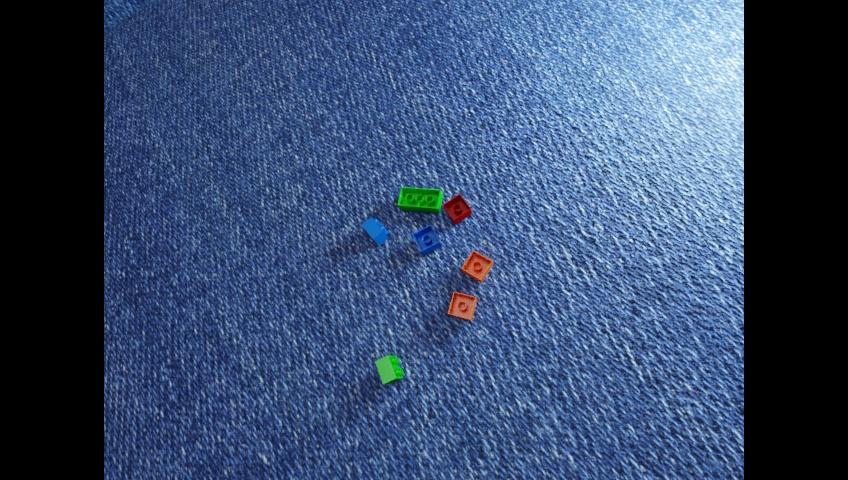2x2_blue: (412, 224, 440, 255), (361, 216, 388, 245)
2x2_green: (375, 355, 402, 384)
2x2_orange: (461, 250, 491, 282), (448, 291, 476, 320)
2x2_red: (442, 193, 471, 224)
4x2_green: (397, 186, 441, 213)
